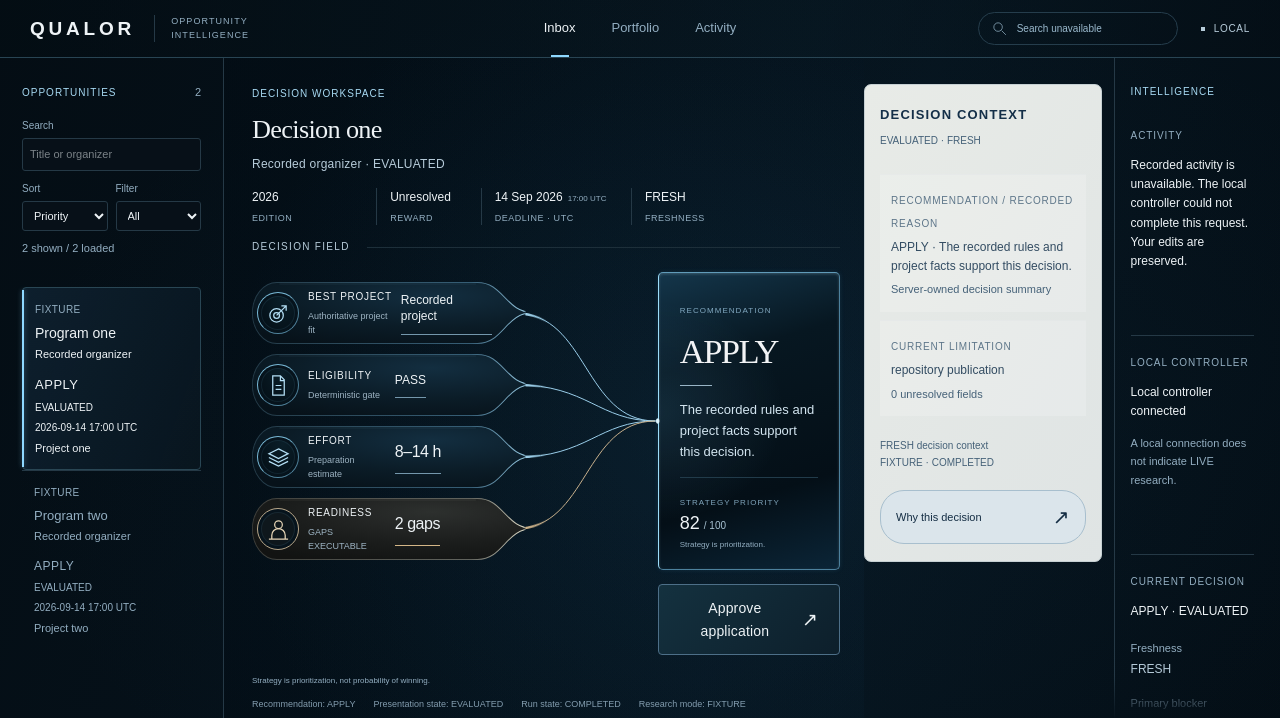
Test: inbox URL selection changes the selected workspace response
This screenshot has width=1280, height=718.
Expected: the heading "Decision one" is shown, x1=252 y1=115 x2=382 y2=144
Click the link "Program two": click(112, 560) x1=22 y1=470 x2=201 y2=650
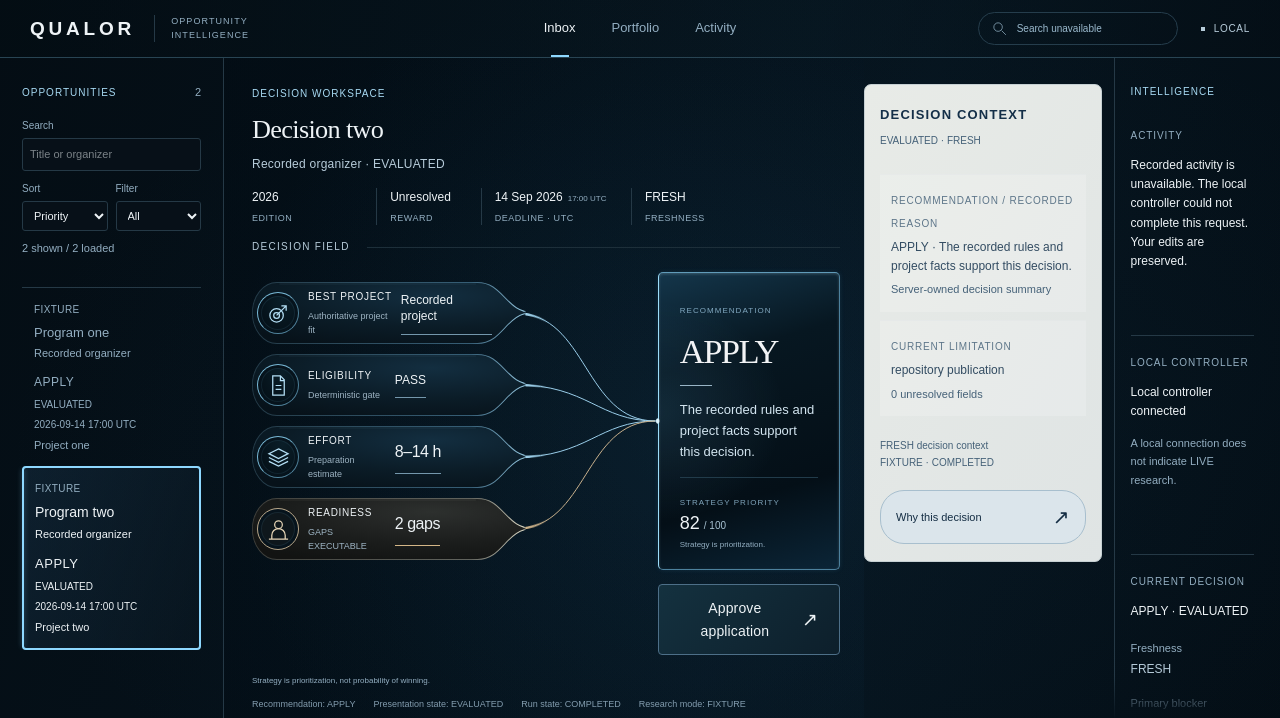
Now the heading "Decision two" is shown, box x1=252 y1=115 x2=383 y2=144
Now the heading "Decision one" is gone
